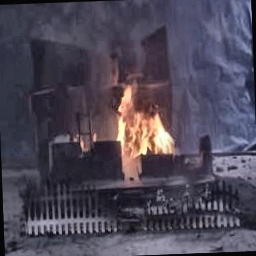fire: (99, 71, 183, 167)
